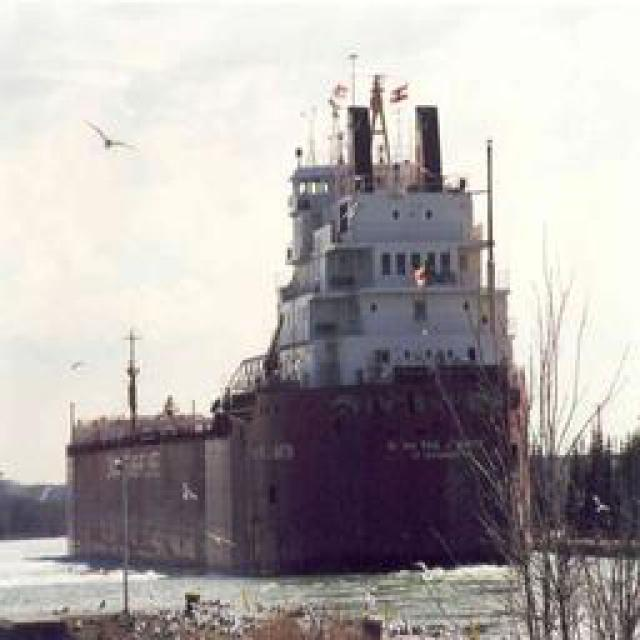Ship: (55, 54, 549, 589)
